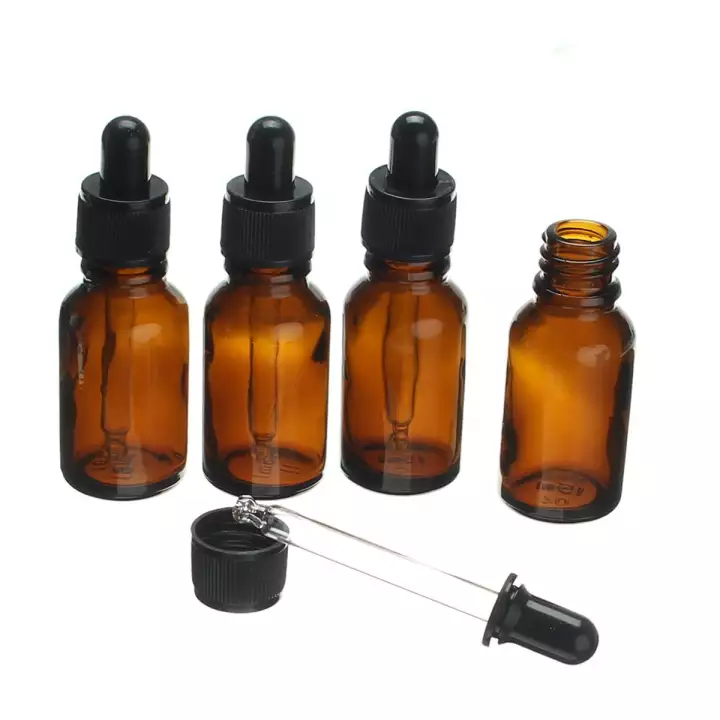glass_bottle: (52, 111, 190, 504), (195, 111, 330, 499), (342, 108, 467, 496), (496, 208, 642, 530)
